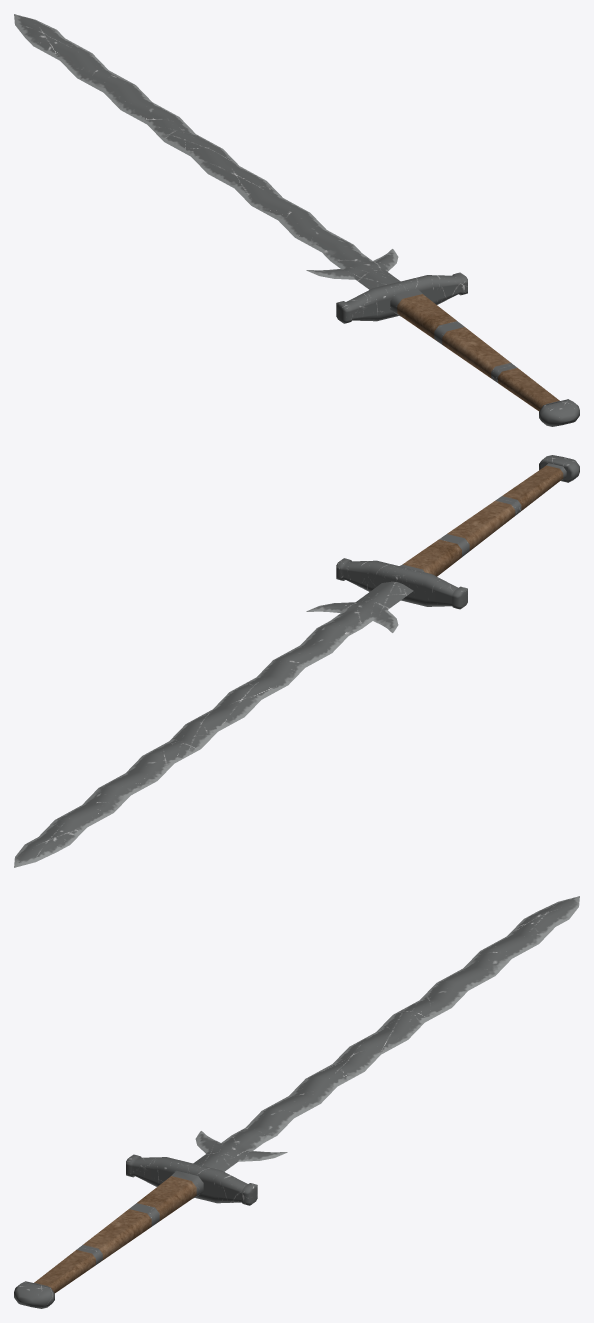
File: IronGreatSwordMeshFBX.fbx
The picture shows the model from 3 angles, top to bottom: view 1: azimuth 30°, elevation 25°; view 2: azimuth 150°, elevation 25°; view 3: azimuth 330°, elevation 25°; orthographic projection.
Parts seen in each view (by area): view 1: IronGreatSwordMesh; view 2: IronGreatSwordMesh; view 3: IronGreatSwordMesh.
Boxes of the visible parts, box(x1,y1,x2,y2) form: IronGreatSwordMesh: box(14, 14, 579, 426); IronGreatSwordMesh: box(14, 455, 579, 867); IronGreatSwordMesh: box(14, 896, 579, 1308).
Bounding box in the file's own units: 66.45 × 14.98 × 509.
